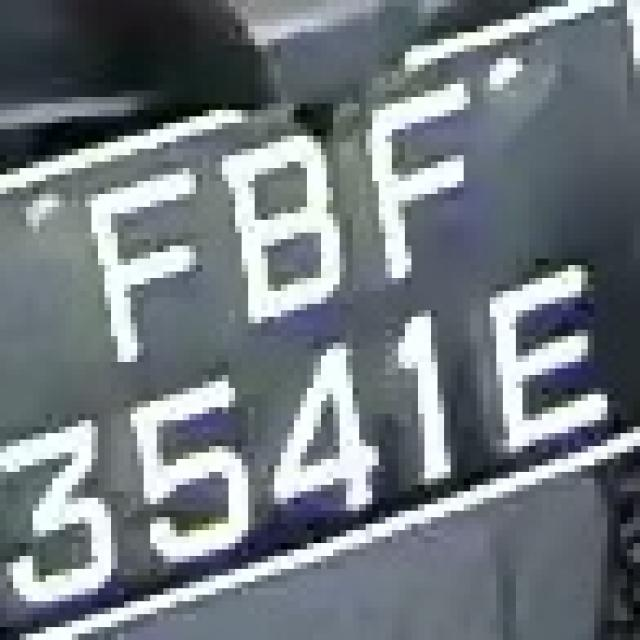1: (378, 272, 464, 504)
3: (13, 407, 137, 614)
4: (229, 336, 385, 537)
5: (98, 375, 268, 562)
B: (203, 110, 359, 336)
E: (477, 258, 620, 478)
F: (340, 58, 536, 304), (59, 155, 202, 375)
